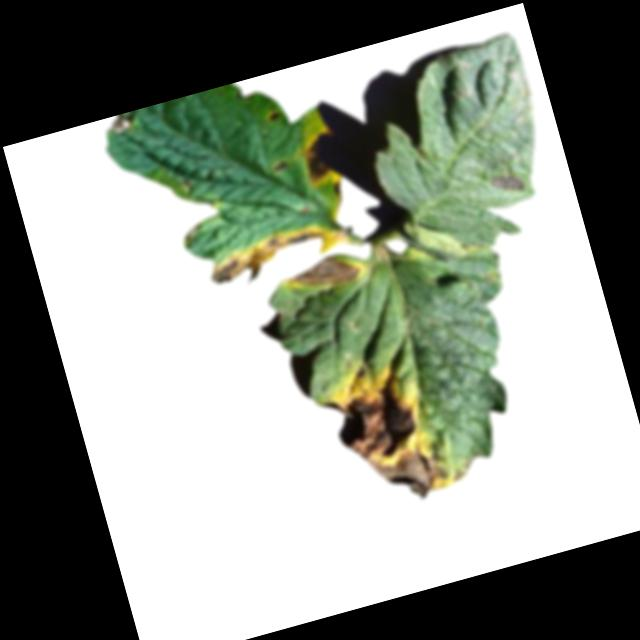Early_blight: (326, 370, 449, 515), (203, 217, 333, 293), (289, 252, 366, 296), (298, 146, 330, 185), (488, 168, 526, 196), (269, 156, 292, 173), (264, 106, 283, 121)
